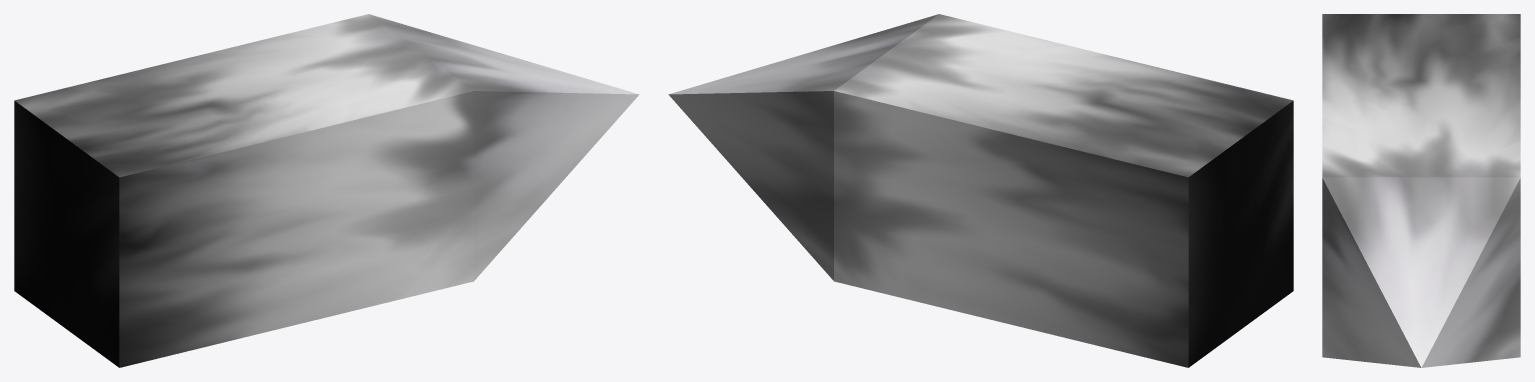
Rendered from ProjectileMesh.fbx.
3 renders of one model, left to right at view 1: azimuth 30°, elevation 25°; view 2: azimuth 150°, elevation 25°; view 3: azimuth 270°, elevation 25°, orthographic. The views are drawn at different scales.
Parts seen in each view (by area): view 1: Projectile Mesh; view 2: Projectile Mesh; view 3: Projectile Mesh.
Boxes of the visible parts, box(x1,y1,x2,y2) form: Projectile Mesh: box(14, 14, 639, 367); Projectile Mesh: box(668, 14, 1293, 367); Projectile Mesh: box(1322, 14, 1520, 367).
Size of the model in its own units: 62.83 by 19.97 by 19.97.
1 material, 1 textured.
